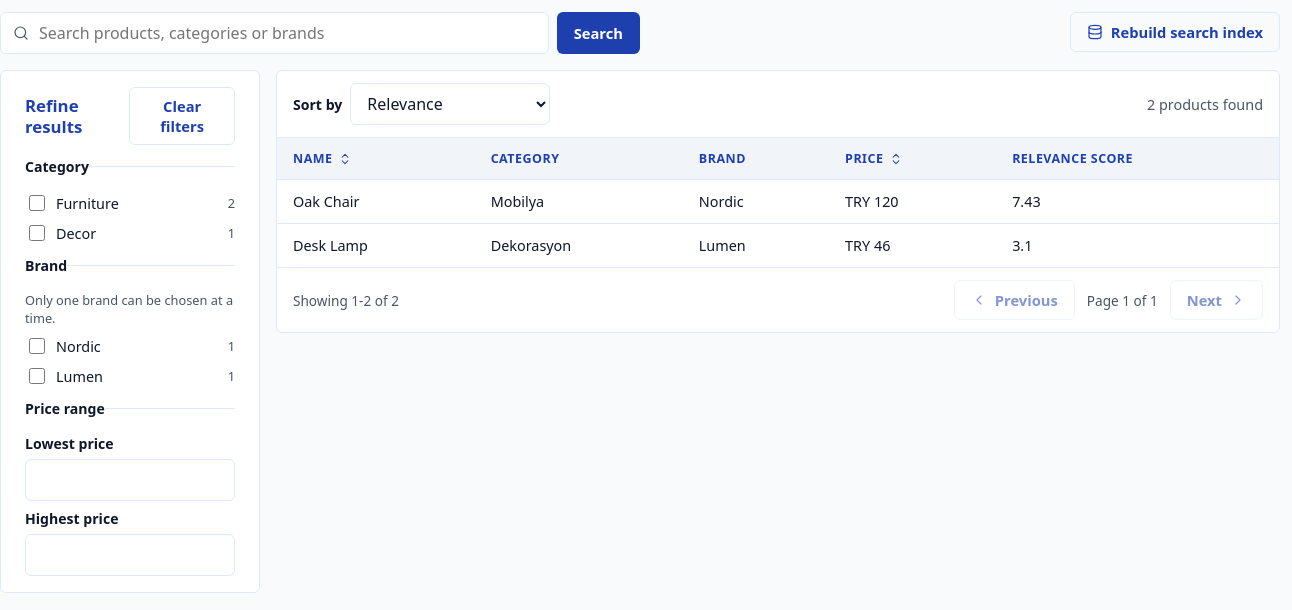
Escape closes the suggestions and keeps the typed text
Expected: the text "Oak Chair" is shown, 277,180 -> 475,224
Step 1. Type "oak" into the dropdown labelled "Search products, categories or brands" → (286, 33), box 37,13 -> 536,53
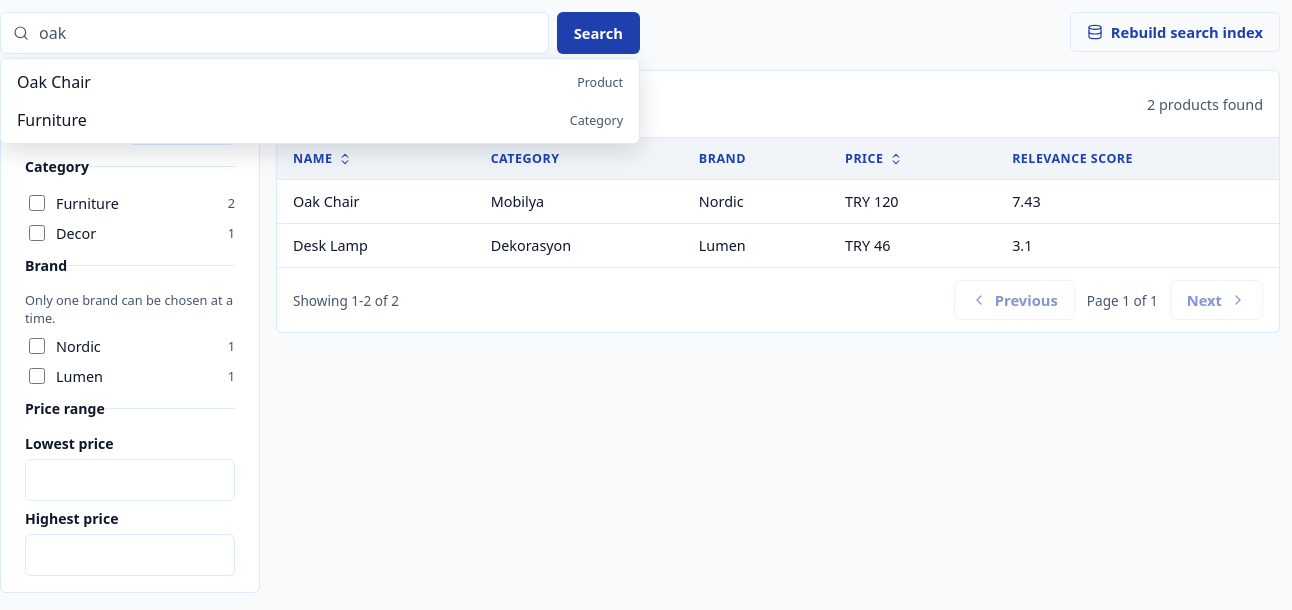
Now the list is shown, box 0,58 -> 640,144
Step 2. Press Escape in the dropdown named "Search products, categories or brands", box 37,13 -> 536,53
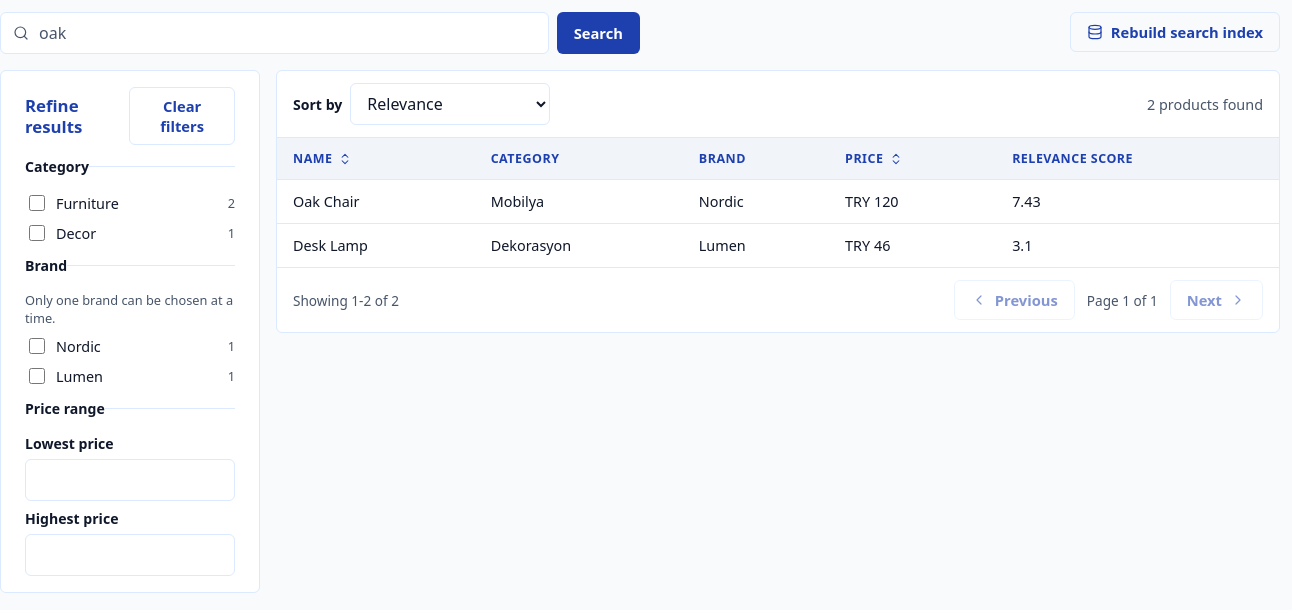
Now the list is gone
